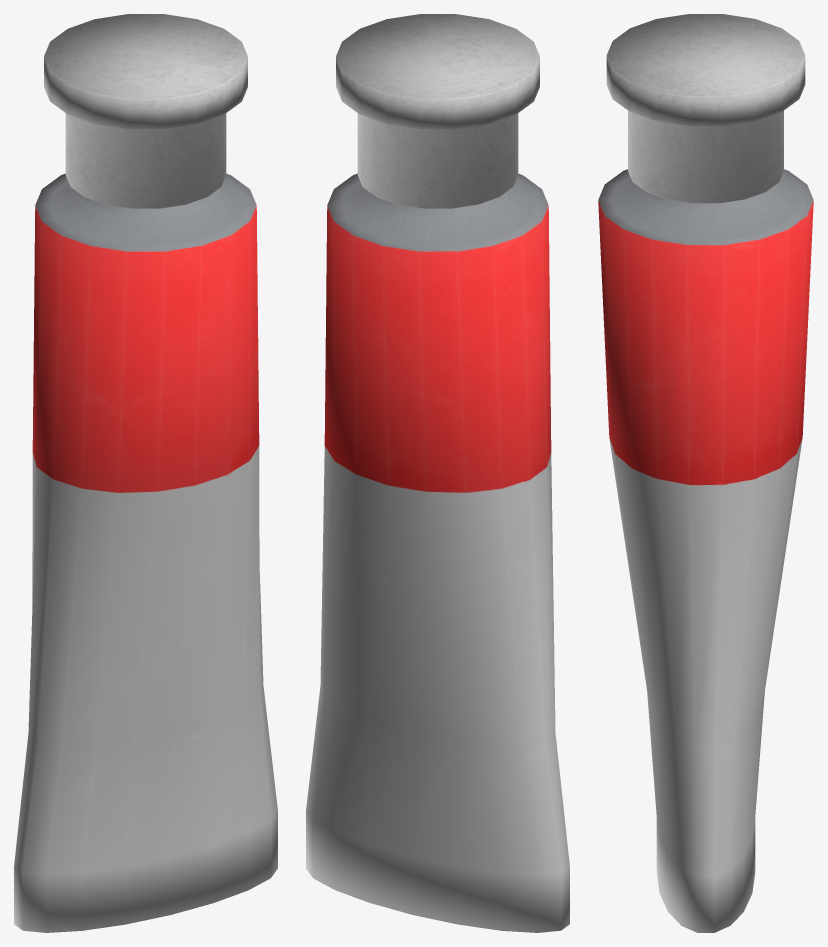
Rendered from tuboDeTInta_TEXTURIZADO_vermelho.fbx.
The picture shows the model from 3 angles, left to right: view 1: azimuth 30°, elevation 25°; view 2: azimuth 150°, elevation 25°; view 3: azimuth 270°, elevation 25°; orthographic projection. The views are drawn at different scales.
Parts seen in each view (by area): view 1: t vermelho; view 2: t vermelho; view 3: t vermelho.
Boxes of the visible parts, x1,y1,x2,y2 form: t vermelho: (14, 14, 277, 932); t vermelho: (306, 14, 569, 932); t vermelho: (598, 14, 813, 932).
Bounding box in the file's own units: 5.55 × 17.48 × 4.18.
1 material, 1 textured.
